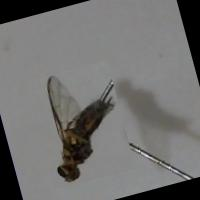Oriental-fruit-fly: (26, 59, 136, 189)
